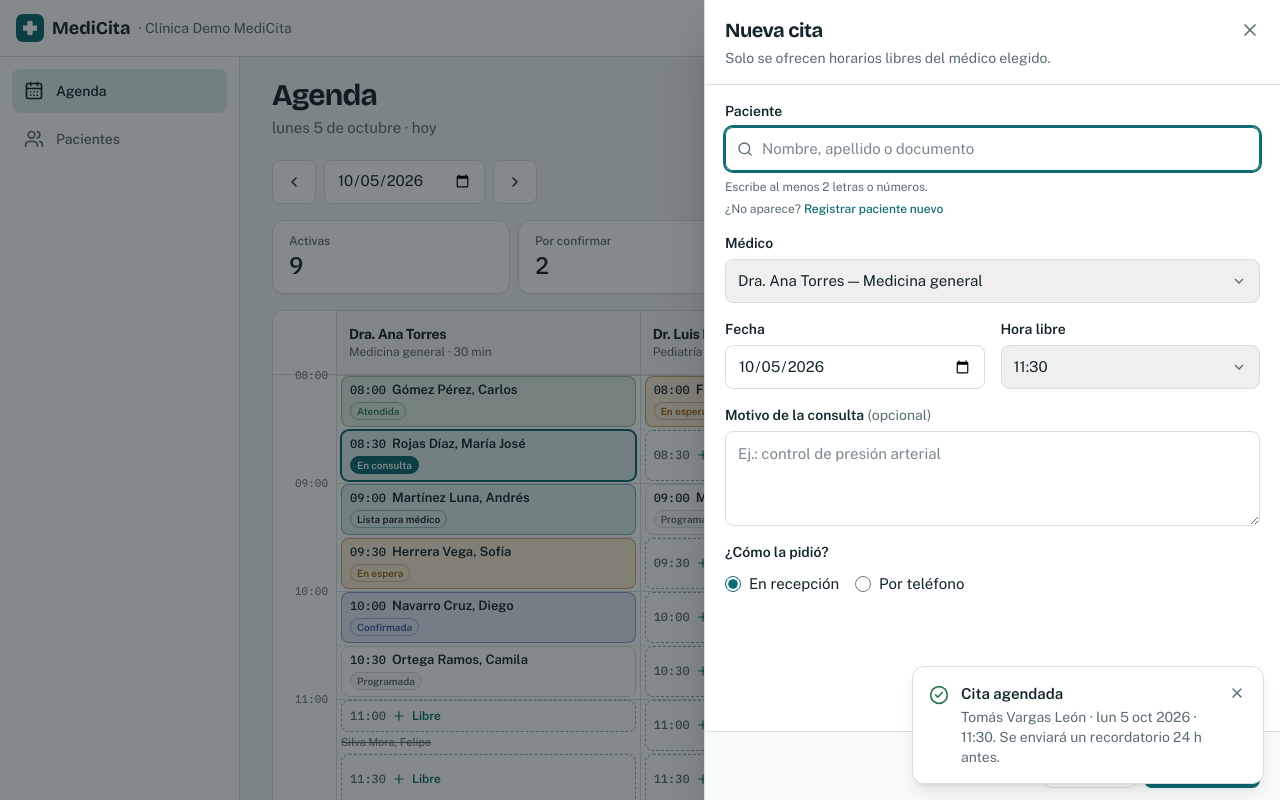
agenda de recepción › exige elegir al paciente
expect the dropdown labelled "Hora libre" shows "11:30": met, box left=1000, top=345, right=1260, bottom=389
Step 1. Click the button "Agendar cita" → (1202, 766), box left=1144, top=744, right=1260, bottom=788
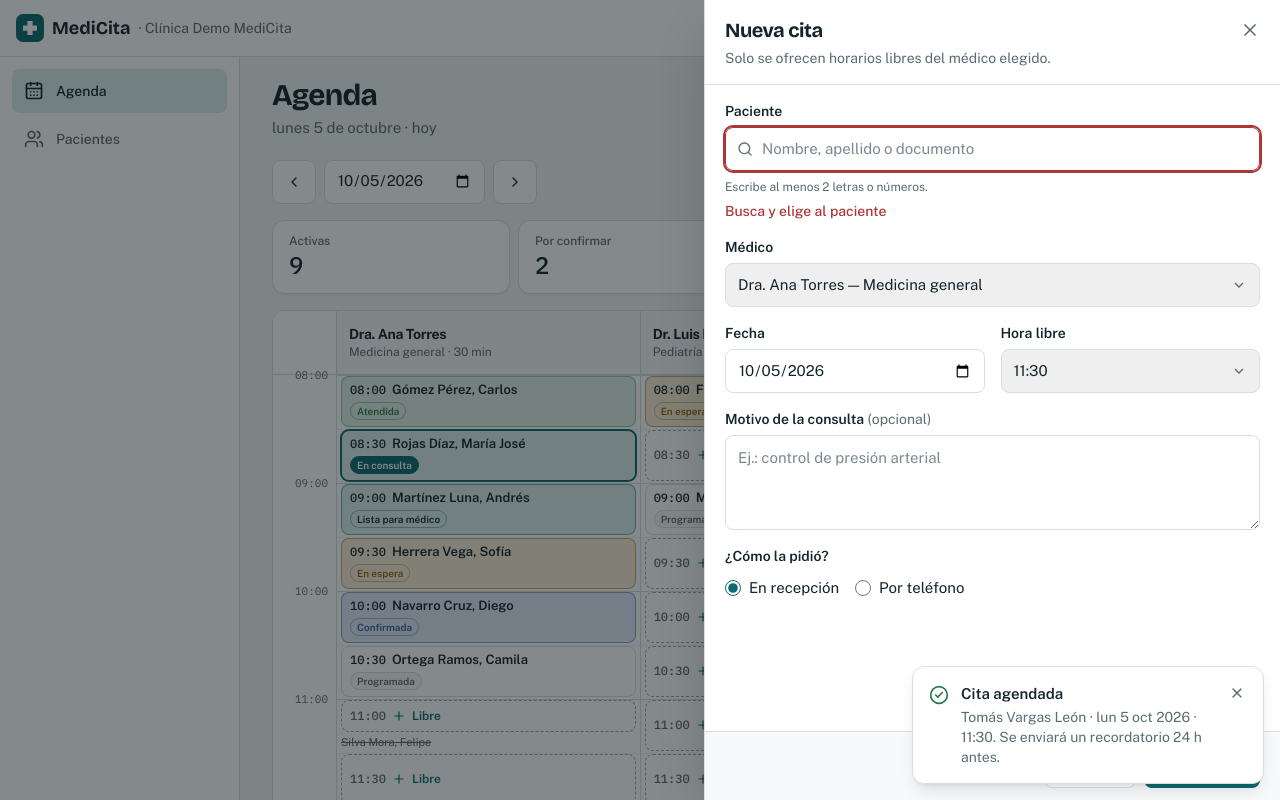
expect the text "Busca y elige al paciente" is shown: met, box left=725, top=203, right=886, bottom=219
